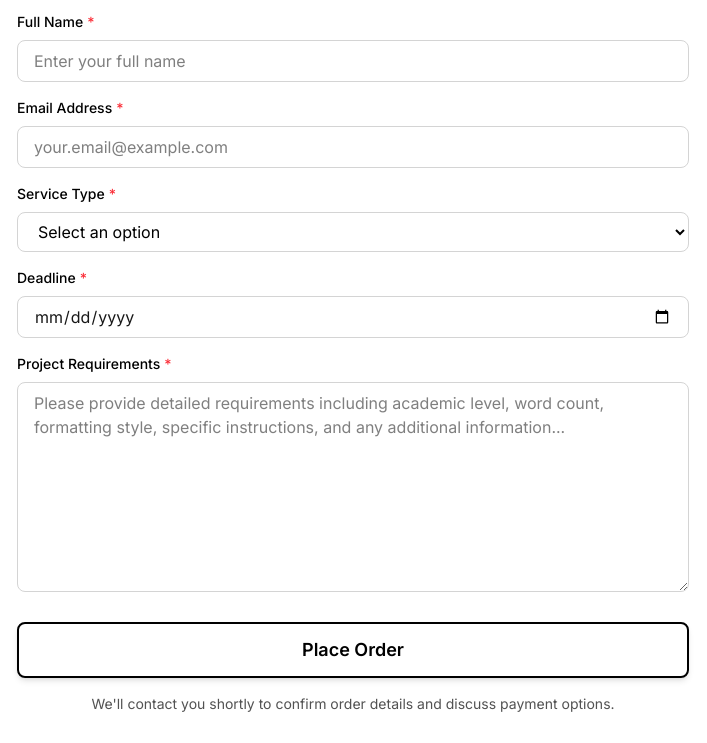
Test: OrderForm Component › displays validation errors for empty required fields
Click the button "Place Order" at (353, 650), box left=17, top=622, right=689, bottom=678
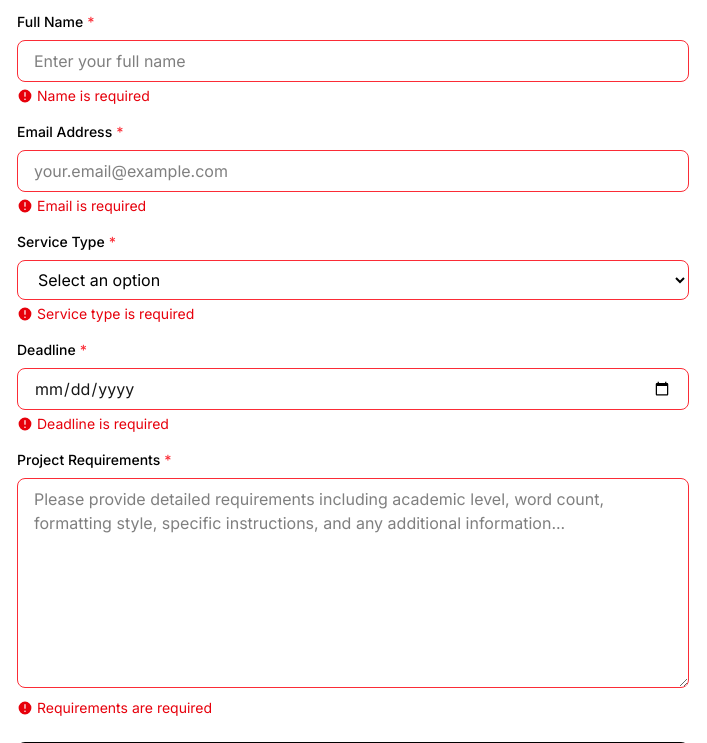
Expected: the text "Name is required" is shown, left=17, top=87, right=150, bottom=104
